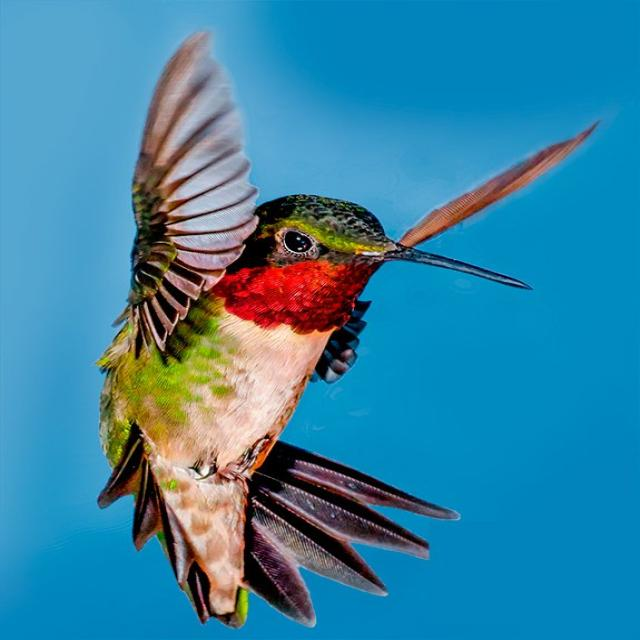Humming Bird: (112, 27, 590, 616)
